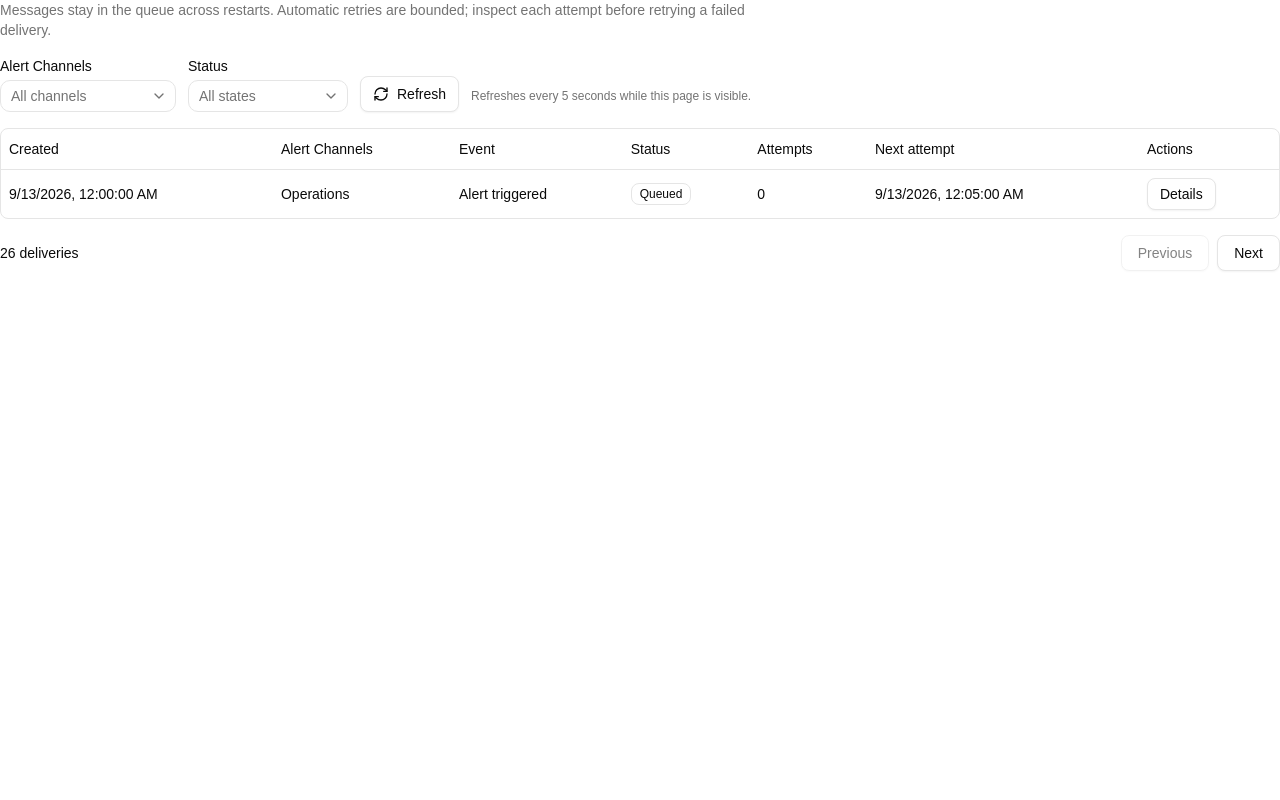
it: durable notification history › does not show retry or cancel controls for administrators
What coordinates should you click on to do the following:
click the button "Details"
I would click on:
 (1181, 194)
Its box is [1147,178,1216,210].
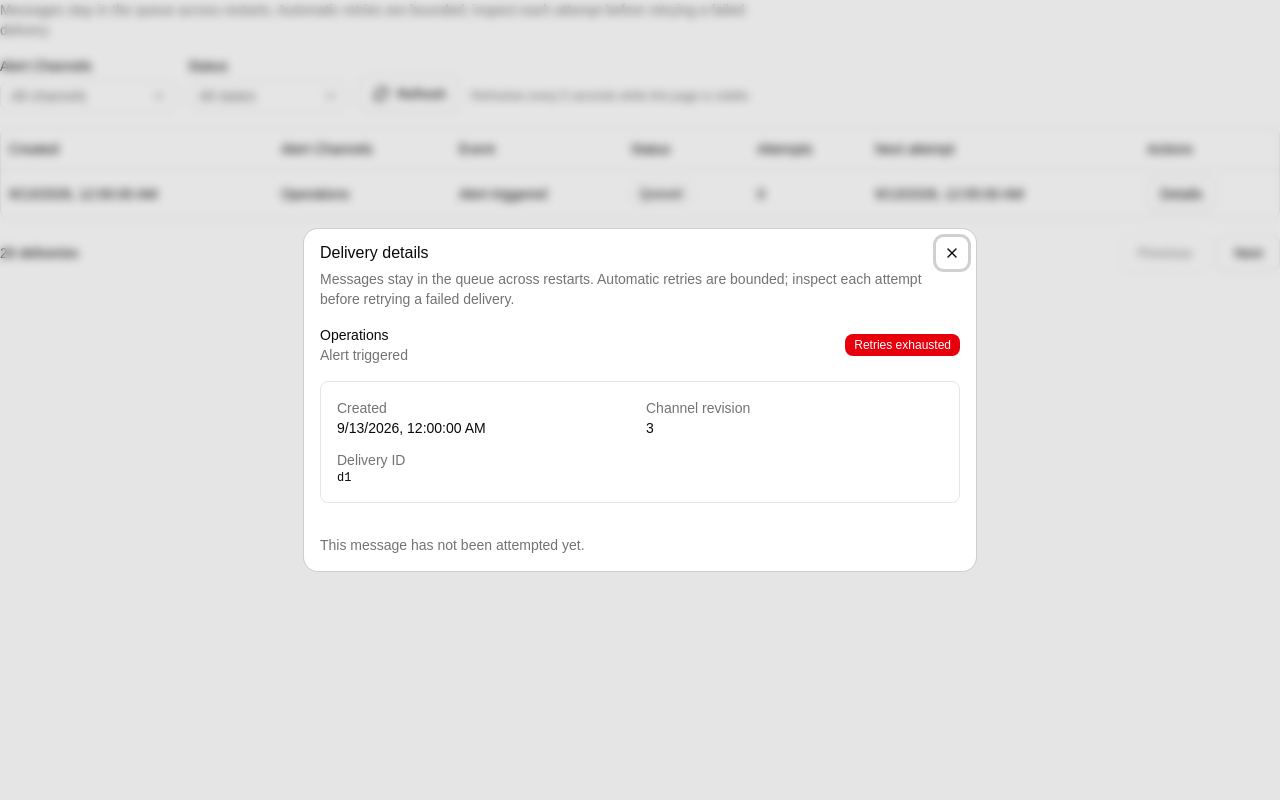
Result: the text "Retries exhausted" is shown at [845,334,960,356]
